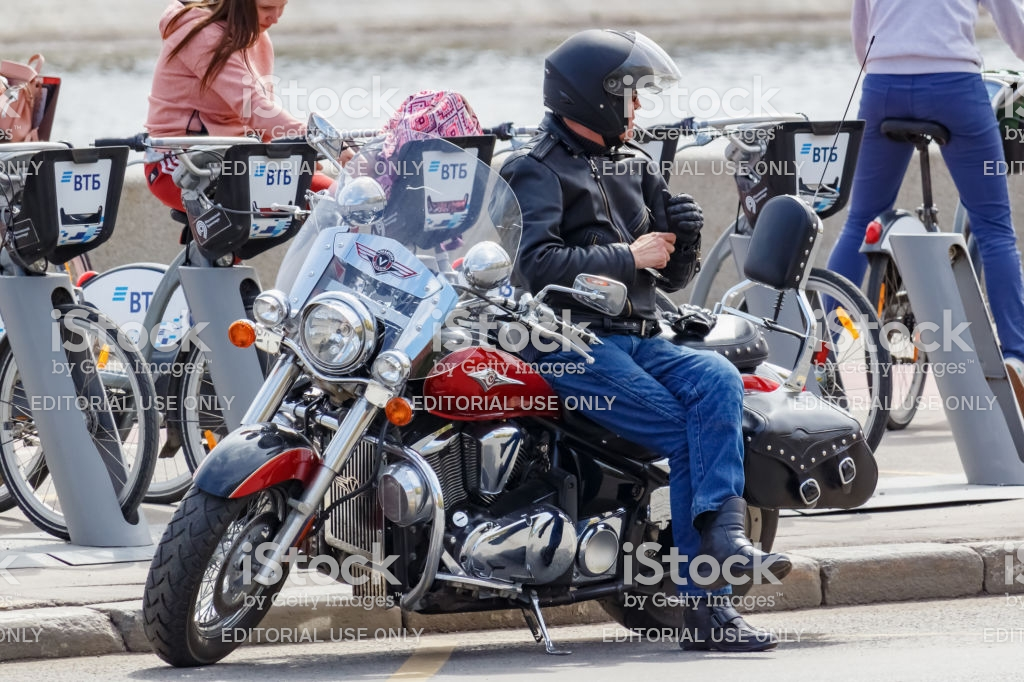helmet: (524, 24, 685, 138)
